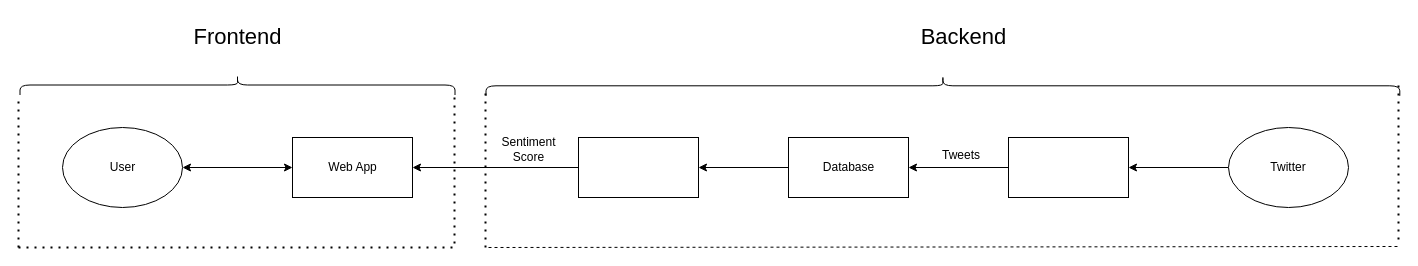
Some shapes in this 1418 by 266 pixel diagram are drawn without their labels. Here are the shapes that lost their labels. From the top down, the centre of each, then its label:
(x=638, y=167): Sentiment Analysis (Machine Learning)
(x=1068, y=167): Twitter API
